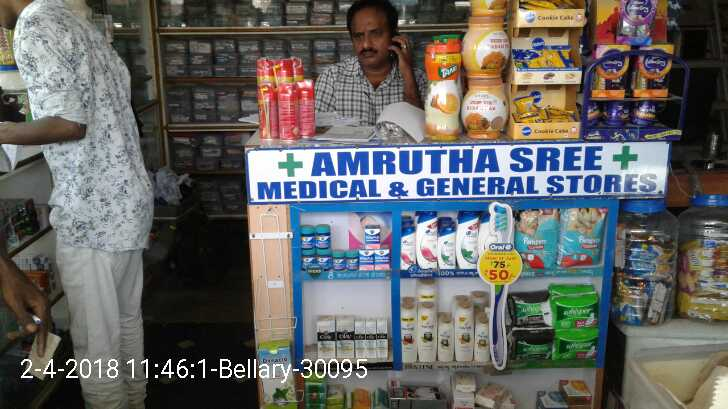vicks: (365, 223, 380, 247), (372, 249, 390, 269), (316, 223, 331, 247), (315, 249, 333, 268), (300, 225, 314, 248), (358, 249, 372, 270), (333, 249, 347, 270), (302, 251, 315, 271), (347, 248, 358, 270)
